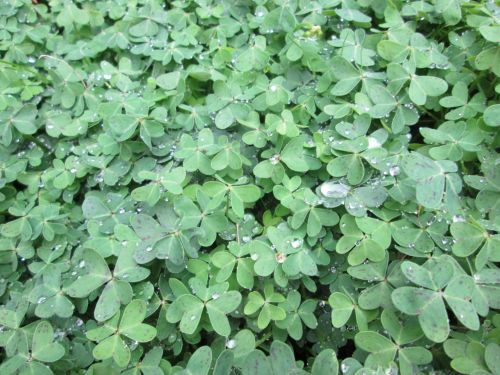oxalis: (9, 9, 494, 374)
